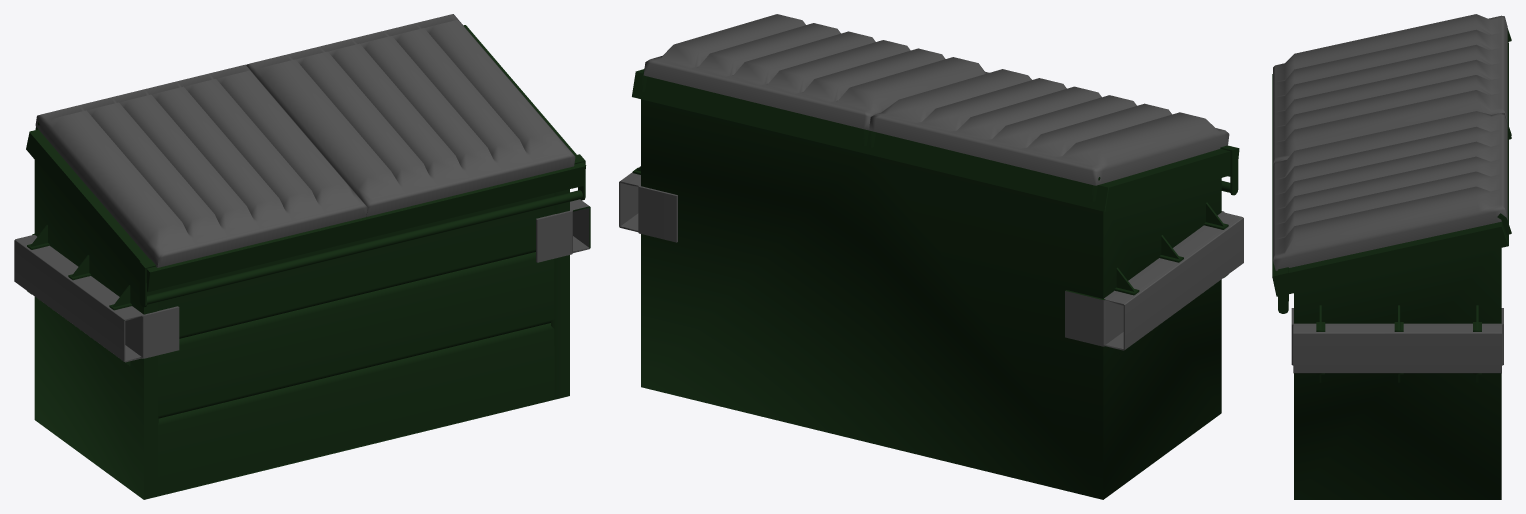
The model's file is TrashBig.fbx.
3 views of the same model, side by side, from view 1: azimuth 30°, elevation 25°; view 2: azimuth 150°, elevation 25°; view 3: azimuth 270°, elevation 25° (orthographic). The views are drawn at different scales.
Parts seen in each view (by area): view 1: Trash cont; view 2: Trash cont; view 3: Trash cont.
Boxes of the visible parts, left/top/right/bottom form: Trash cont: left=14, top=14, right=590, bottom=499; Trash cont: left=619, top=14, right=1243, bottom=499; Trash cont: left=1272, top=14, right=1511, bottom=499.
Bounding box in the file's own units: 184 × 117 × 85.99.
